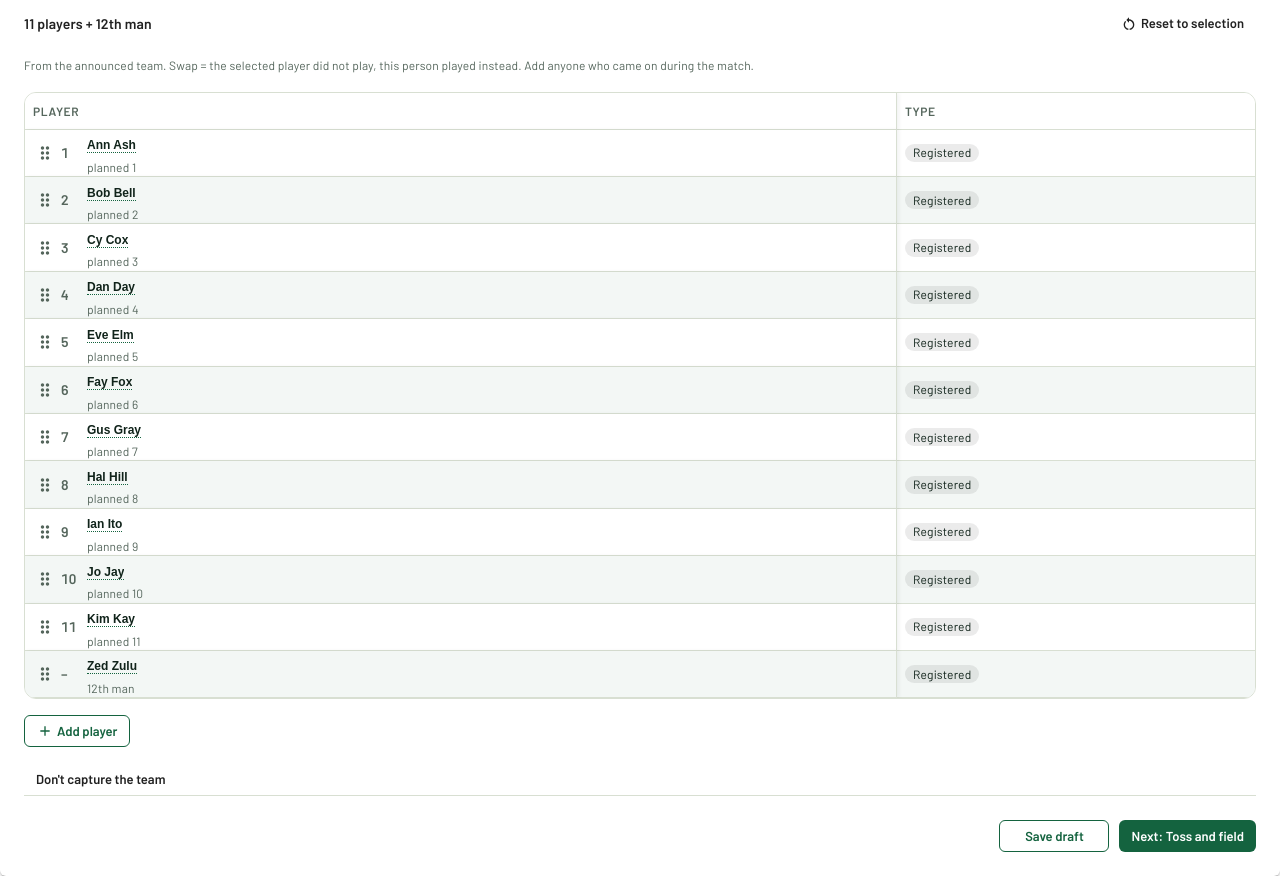
Test: Teams step › "Don't capture the team" drops the proposed list and moves on to Toss and field
This screenshot has width=1280, height=876.
(page scrolled)
Expected: the text "Ann Ash" is shown, x1=87 y1=138 x2=136 y2=153
Step 1. Click the button "Don't capture the team" → coordinates (101, 779), box x1=24 y1=763 x2=177 y2=795
(page scrolled)
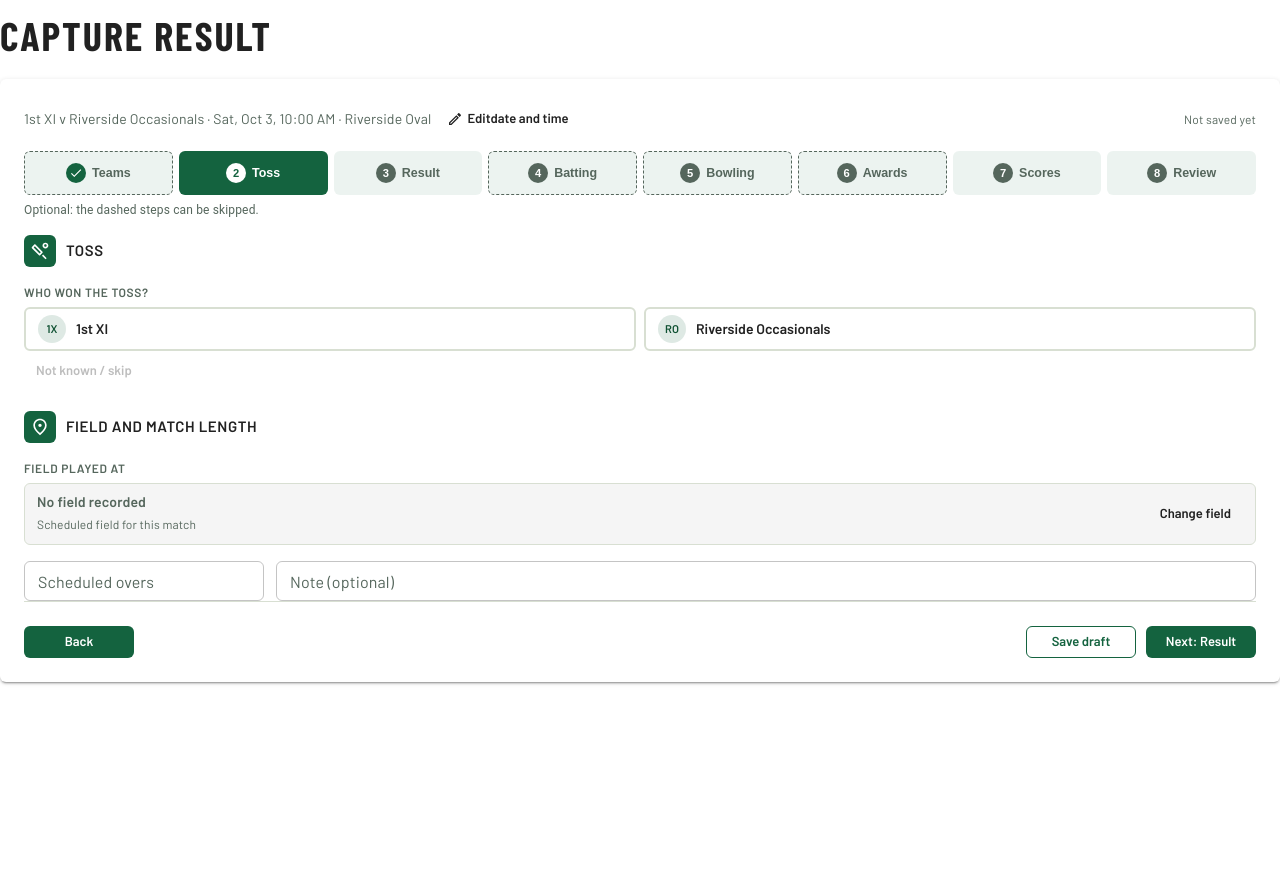
Expected: the text "Who won the toss?" is shown, x1=24 y1=285 x2=149 y2=299
